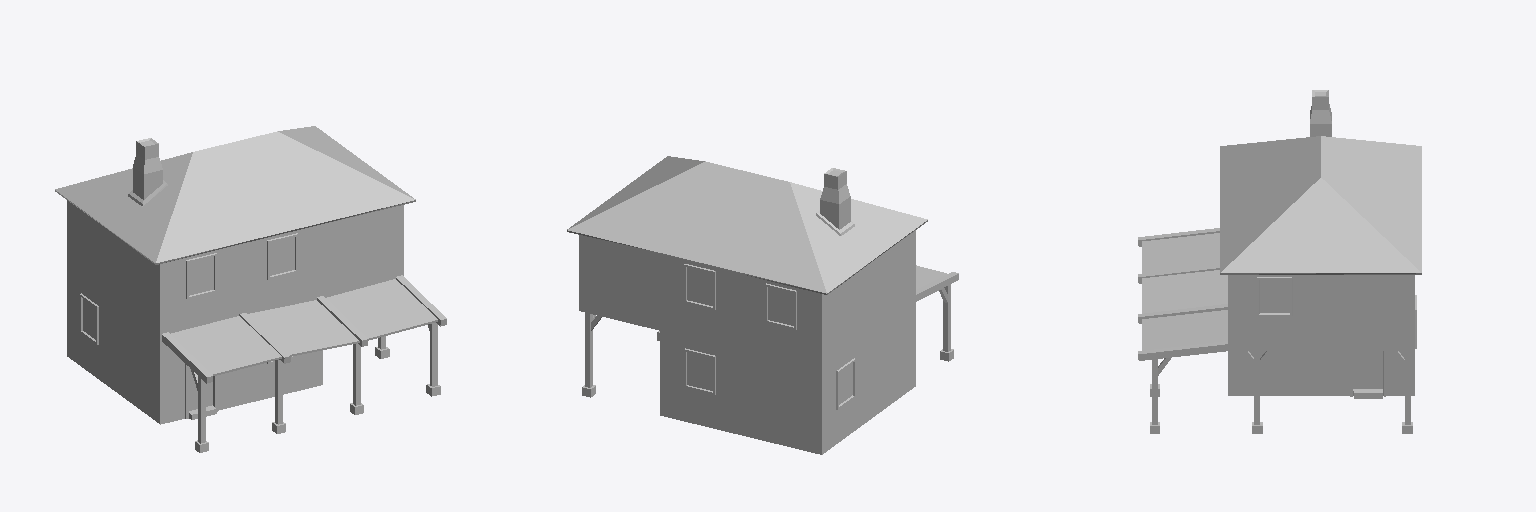
Rendered from medieval_building_2.obj.
3 views of the same model, side by side, from view 1: azimuth 30°, elevation 25°; view 2: azimuth 150°, elevation 25°; view 3: azimuth 270°, elevation 25° (orthographic).
Parts seen in each view (by area): view 1: objbuilding_; view 2: objbuilding_; view 3: objbuilding_.
Boxes of the visible parts, <box> form: objbuilding_: <box>55,126,446,452</box>; objbuilding_: <box>567,156,958,454</box>; objbuilding_: <box>1138,90,1421,433</box>.
Bounding box in the file's own units: 32.18 × 28.31 × 30.42.